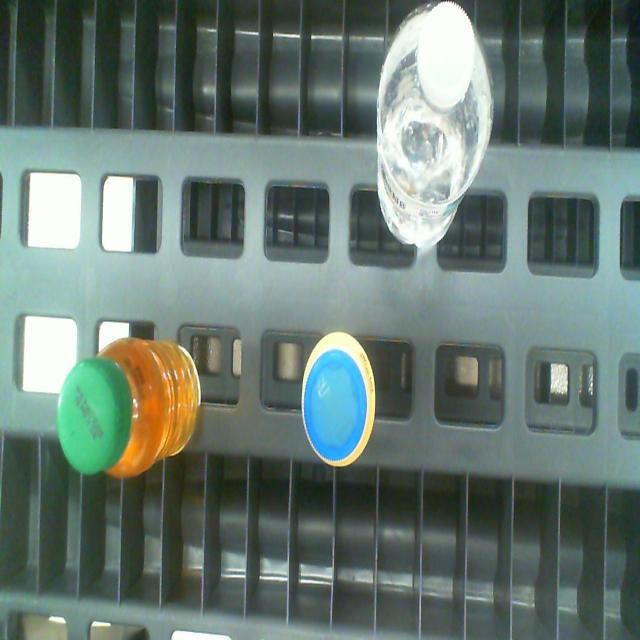drink: (56, 356, 133, 472), (302, 348, 368, 458), (418, 4, 474, 106)
